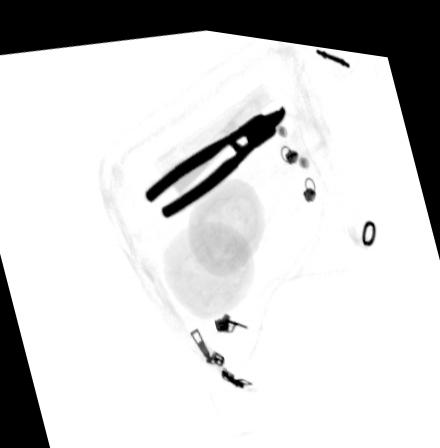Pliers: (144, 96, 287, 216)
